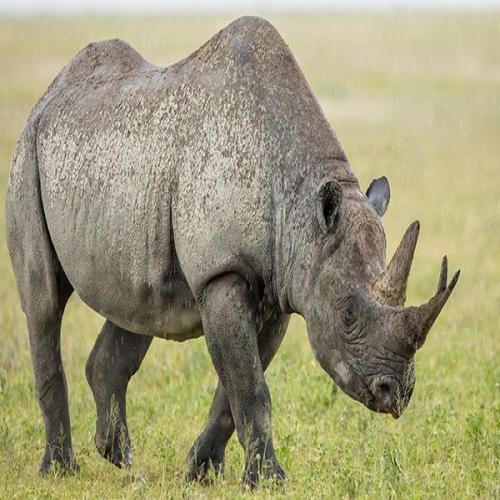rhino-endangered: (3, 12, 460, 492)
